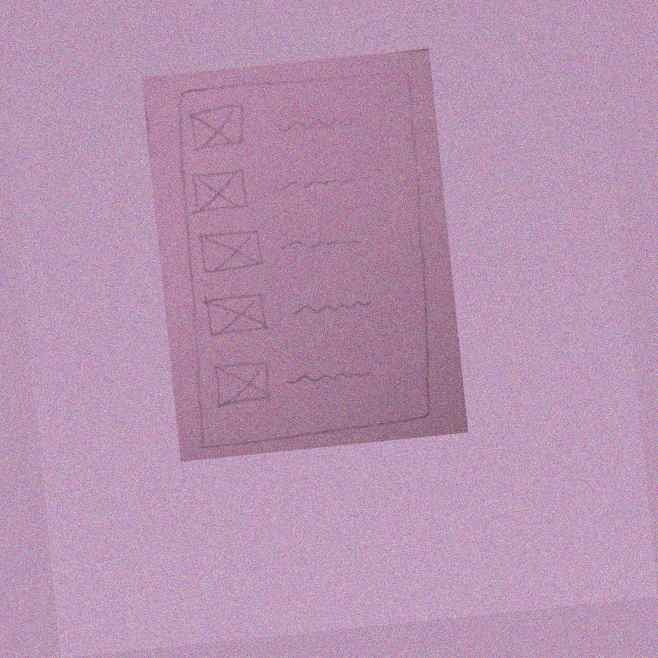image: (205, 356, 279, 411), (193, 225, 267, 277), (199, 286, 273, 338), (186, 103, 250, 156), (187, 165, 251, 218)
text: (282, 355, 379, 393), (269, 104, 358, 143), (287, 285, 375, 324), (271, 163, 360, 201), (276, 223, 365, 261)
